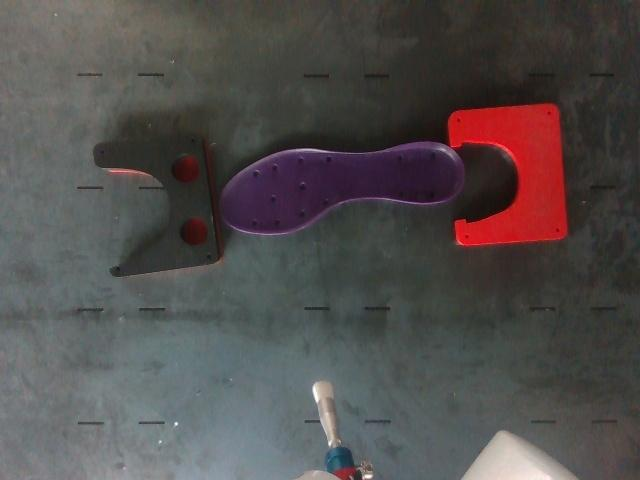shoes: (222, 145, 463, 231)
